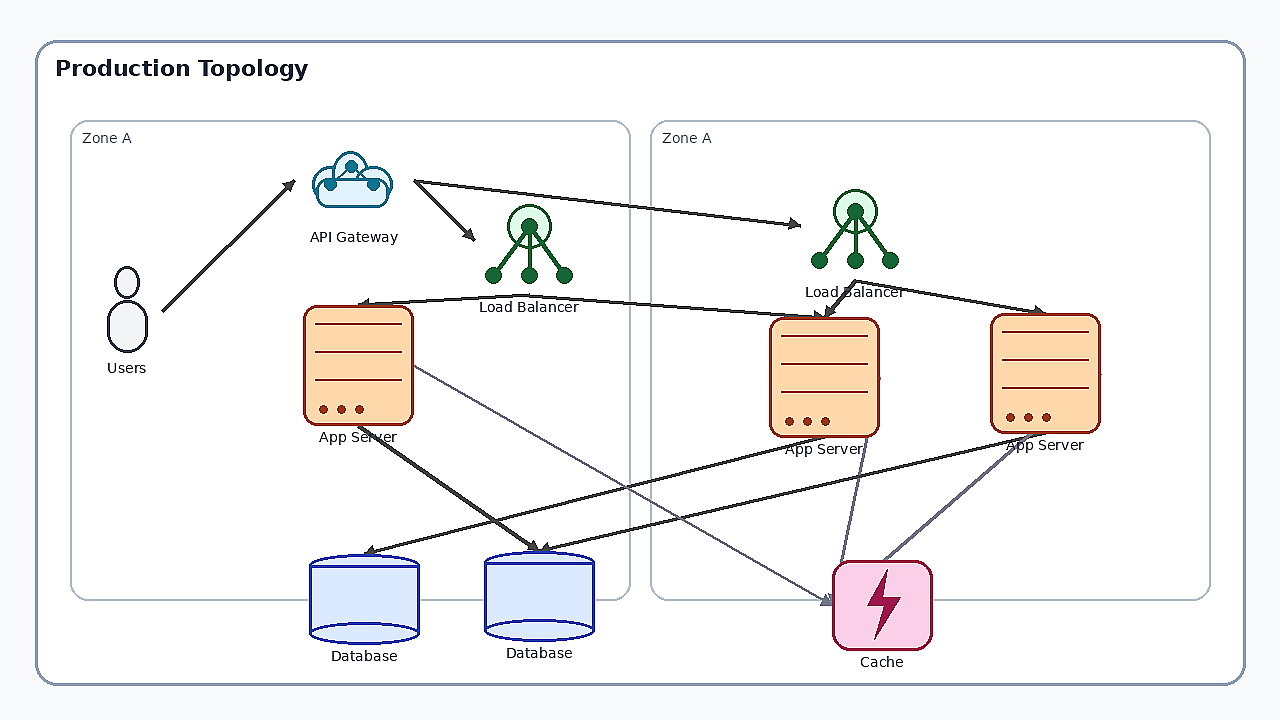API Gateway: (294, 135, 414, 225)
Application Server: (769, 317, 879, 437), (990, 313, 1100, 433), (303, 305, 413, 425)
Cache: (832, 560, 932, 650)
Database: (309, 554, 419, 644), (484, 551, 594, 641)
Load Balancer: (474, 185, 584, 295), (800, 170, 910, 280)
User: (92, 266, 162, 356)
